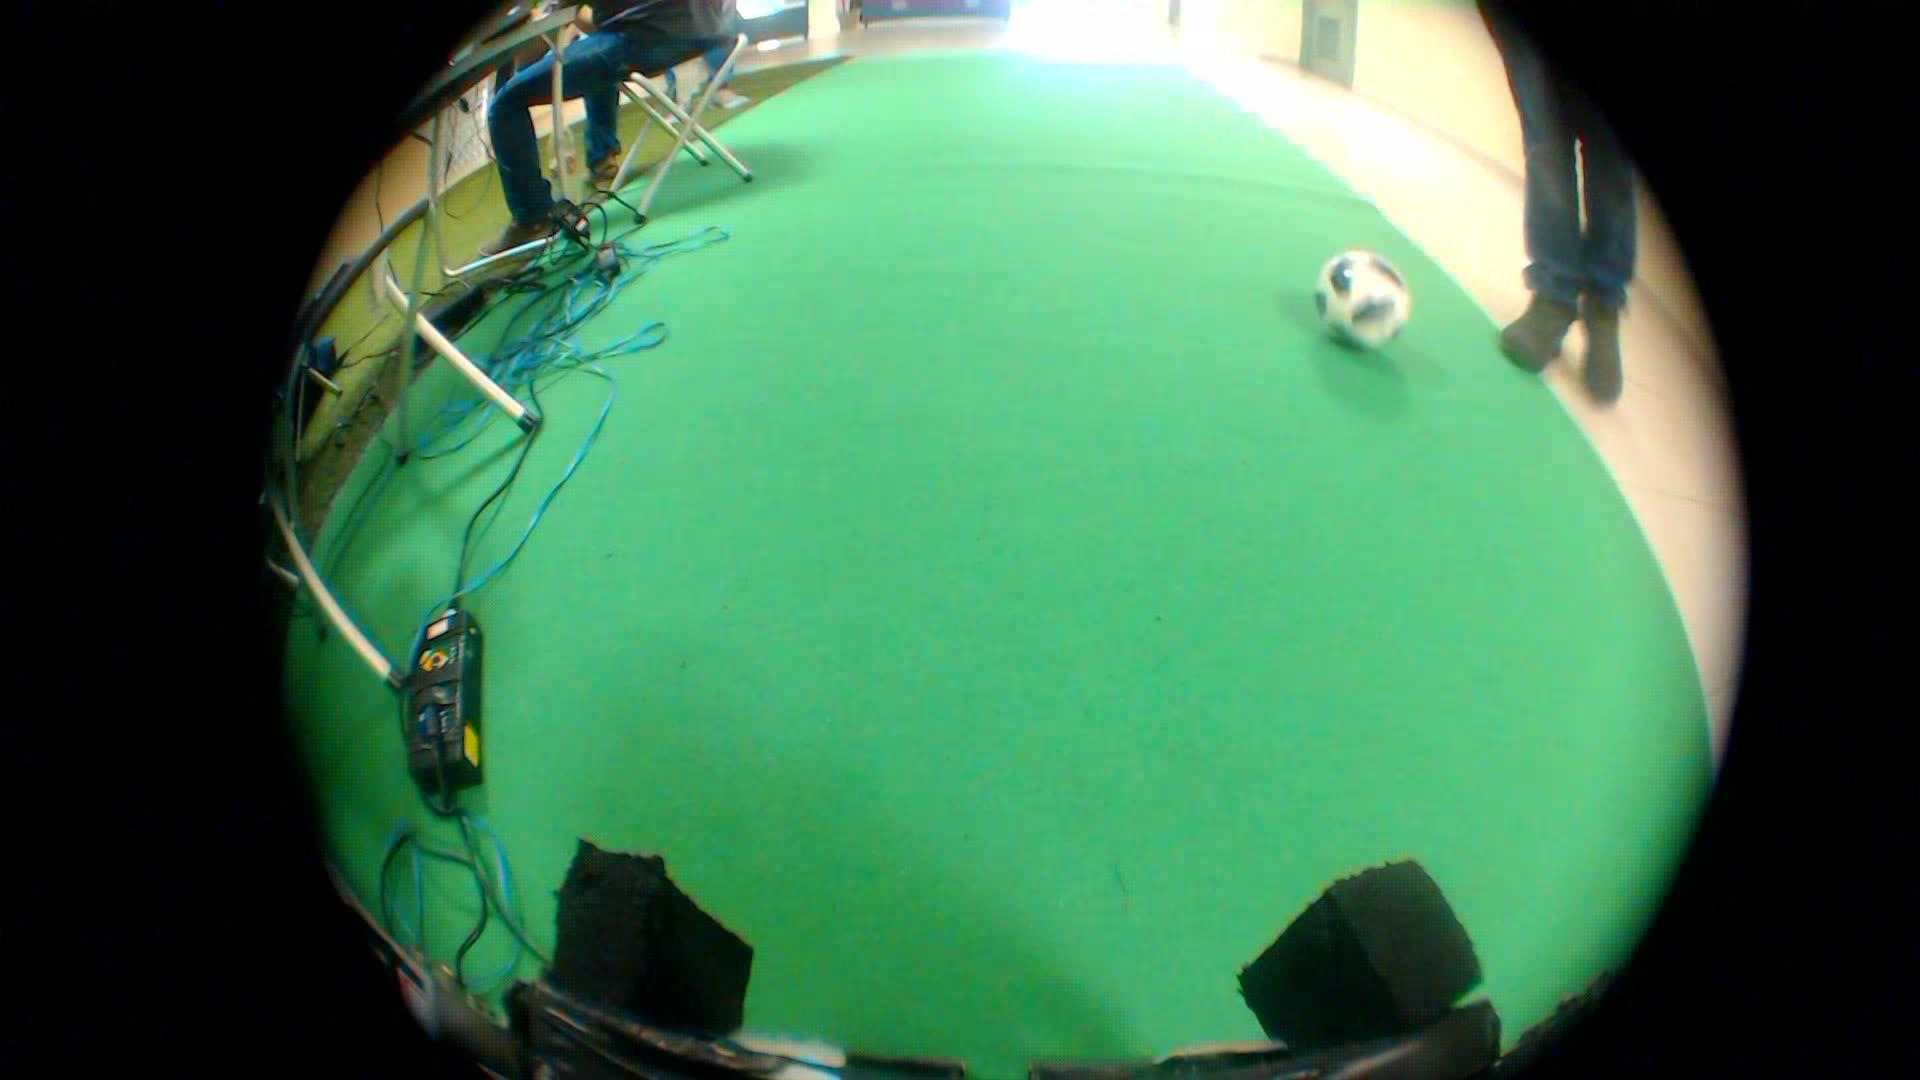ball: (1309, 243, 1420, 357)
